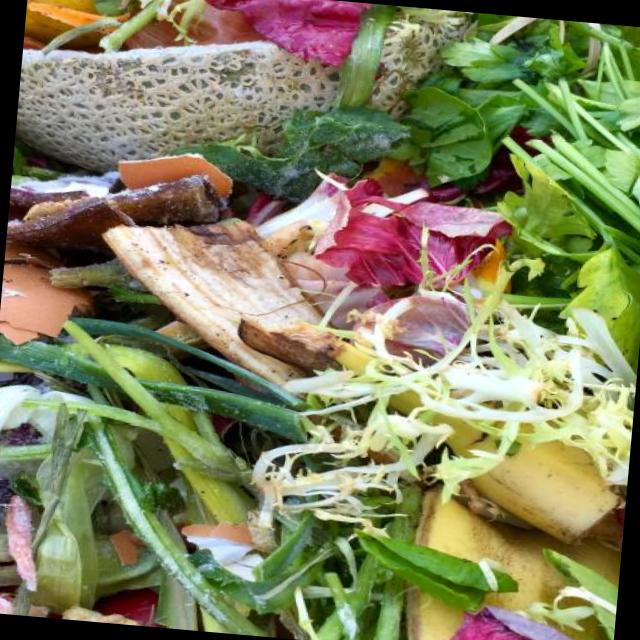paper: (424, 344, 608, 443)
